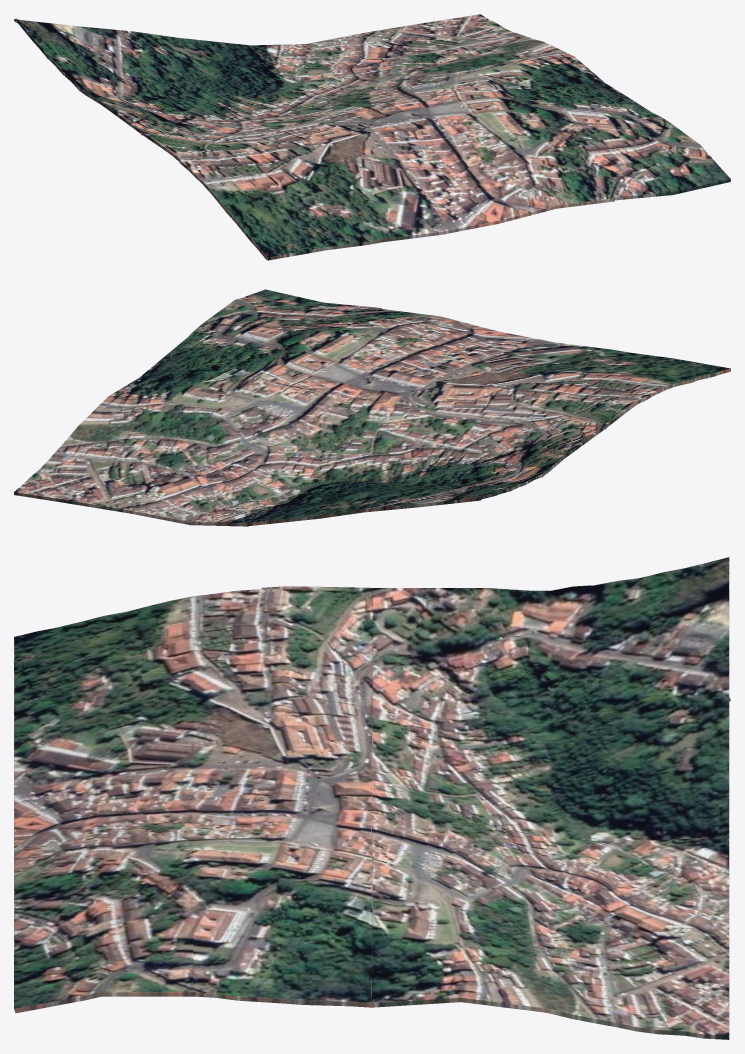
The model's file is Terreno.fbx.
3 views of the same model, one above another, from view 1: azimuth 30°, elevation 25°; view 2: azimuth 150°, elevation 25°; view 3: azimuth 270°, elevation 25° (orthographic). The views are drawn at different scales.
Parts seen in each view (by area): view 1: BuildingMesh-00010, BuildingMesh-00019, BuildingMesh-00007, BuildingMesh-00023; view 2: BuildingMesh-00023, BuildingMesh-00019, BuildingMesh-00007, BuildingMesh-00010; view 3: BuildingMesh-00007, BuildingMesh-00010, BuildingMesh-00019, BuildingMesh-00023.
Boxes of the visible parts, box(x1,y1,x2,y2) form: BuildingMesh-00010: box(141, 108, 499, 260); BuildingMesh-00019: box(374, 81, 730, 223); BuildingMesh-00007: box(14, 18, 372, 135); BuildingMesh-00023: box(250, 14, 605, 108); BuildingMesh-00023: box(14, 376, 371, 526); BuildingMesh-00019: box(140, 289, 497, 402); BuildingMesh-00007: box(246, 402, 606, 526); BuildingMesh-00010: box(372, 331, 730, 429); BuildingMesh-00007: box(371, 557, 730, 842); BuildingMesh-00010: box(14, 586, 372, 826); BuildingMesh-00019: box(14, 792, 372, 1013); BuildingMesh-00023: box(371, 798, 729, 1039).
Bounding box in the file's own units: 195 × 44.71 × 182.
